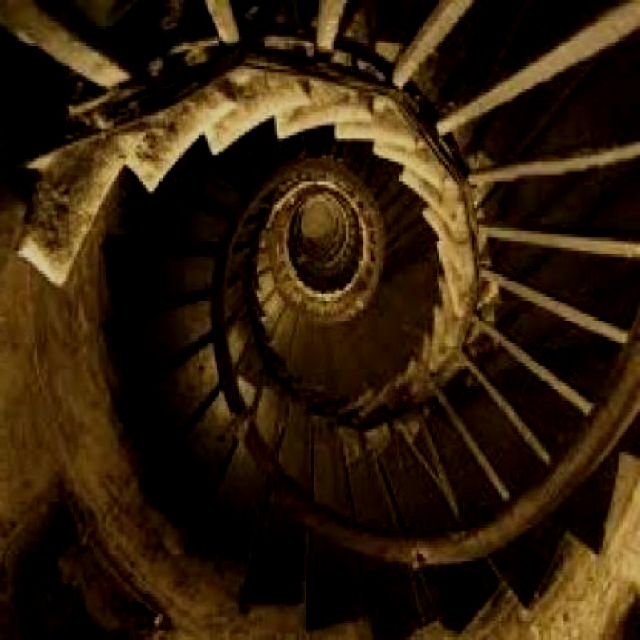stair: (64, 69, 385, 637)
